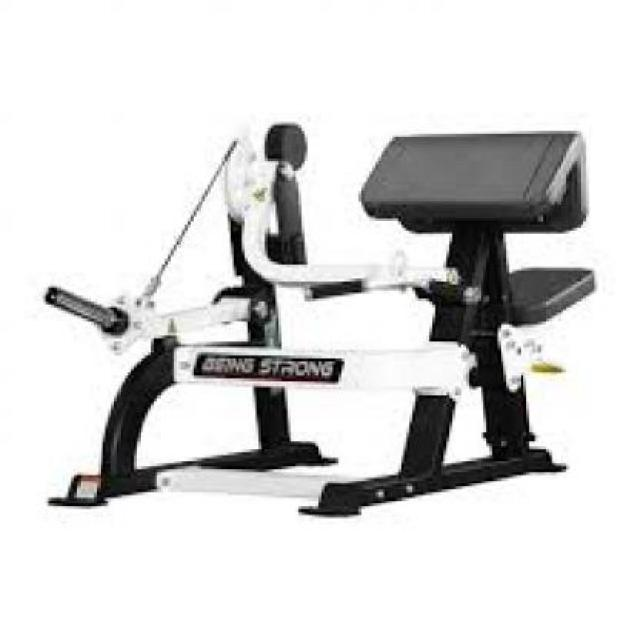arm curl machine: (42, 120, 596, 520)
